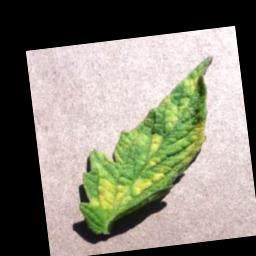Leaf_Mold: (63, 55, 233, 235)
